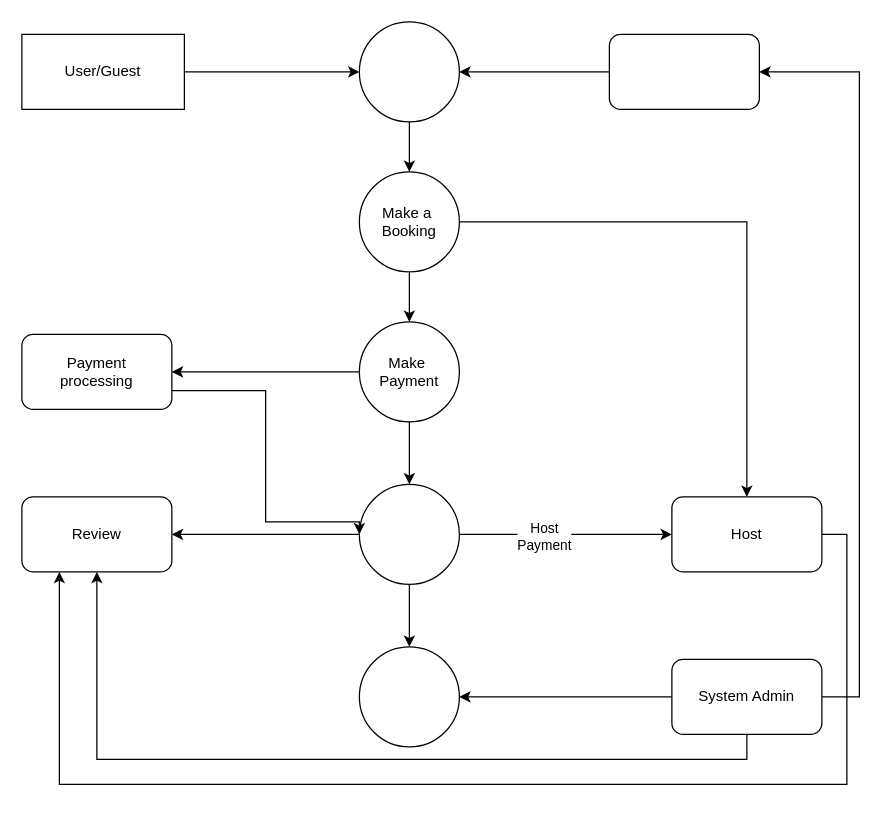
The diagram is 891 pixels wide and 816 high, and some of its shapes have lost their labels. The centre of each missing label's shape, as x and y in pixels:
"Check Property" belongs at [408,71].
"Checkout" belongs at [408,533].
"Complete Order" belongs at [408,696].
"System" belongs at [683,71].
